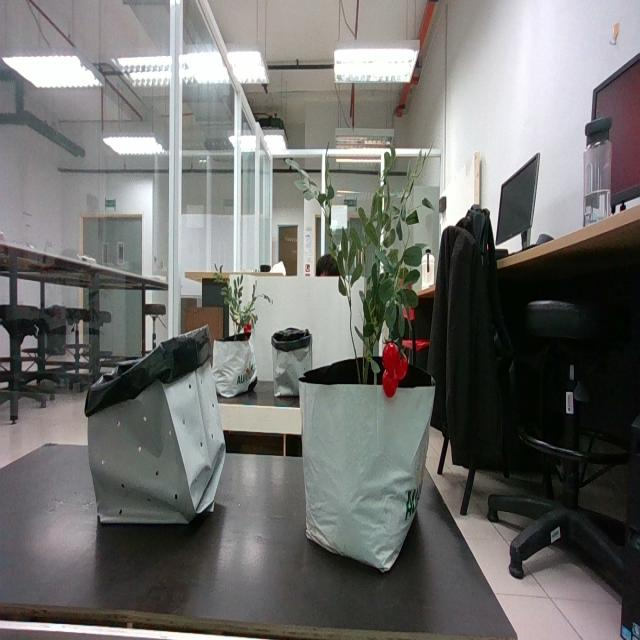Soilbag: (298, 361, 435, 574), (85, 330, 226, 529)
Tomato: (382, 341, 409, 399)
plant: (284, 152, 422, 392)
